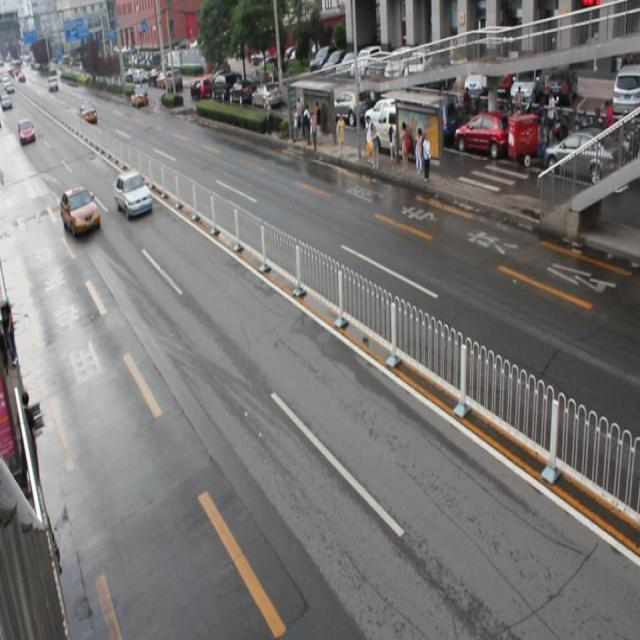car: (61, 184, 101, 238), (114, 169, 153, 219)
